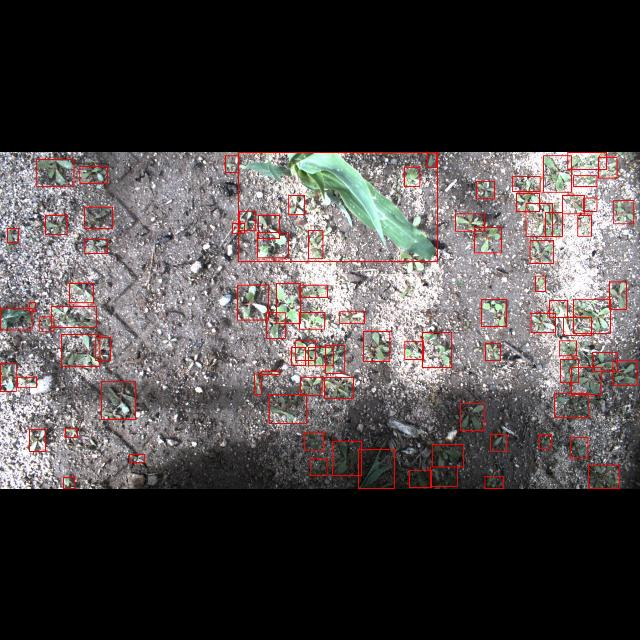crop: (238, 151, 438, 261), (358, 449, 394, 488)
weed: (100, 381, 136, 419), (574, 298, 610, 334), (61, 334, 100, 366), (332, 440, 362, 476), (542, 155, 572, 191), (238, 284, 268, 320), (36, 158, 74, 186), (270, 393, 306, 422), (422, 332, 452, 366), (276, 283, 300, 323), (52, 306, 96, 326), (526, 202, 552, 235), (571, 366, 601, 394), (555, 393, 589, 417), (364, 331, 390, 361), (588, 464, 620, 488), (474, 226, 502, 252), (258, 232, 288, 256), (0, 307, 32, 329), (432, 444, 464, 466), (482, 298, 506, 326), (460, 404, 484, 431), (324, 377, 354, 398), (613, 360, 637, 386), (84, 206, 112, 228), (568, 152, 606, 168), (430, 466, 458, 486), (530, 240, 554, 262), (258, 214, 280, 238), (530, 312, 556, 332), (266, 312, 286, 338), (308, 346, 334, 366), (326, 345, 344, 373), (564, 317, 592, 335), (592, 352, 618, 371), (0, 362, 16, 392), (69, 282, 93, 302), (456, 213, 484, 230), (80, 165, 108, 182), (610, 281, 626, 309), (308, 230, 324, 258), (512, 175, 540, 191), (294, 340, 316, 360), (614, 200, 634, 222), (516, 193, 540, 211), (560, 358, 578, 382), (598, 156, 618, 177), (45, 214, 67, 233), (562, 194, 584, 213), (299, 312, 325, 328), (300, 377, 322, 395), (409, 470, 431, 488), (299, 284, 327, 298), (546, 212, 562, 236), (570, 437, 588, 457), (304, 432, 324, 450), (404, 341, 424, 359), (29, 429, 45, 451), (84, 238, 108, 252), (476, 180, 494, 198), (96, 336, 110, 359), (289, 194, 305, 214), (239, 210, 255, 230), (577, 214, 591, 236), (404, 167, 420, 186), (310, 458, 326, 476), (490, 434, 506, 452), (550, 300, 568, 316), (574, 174, 596, 186), (560, 340, 576, 356), (486, 342, 500, 360), (291, 347, 305, 365), (340, 312, 364, 322), (40, 316, 54, 332), (485, 476, 503, 488), (226, 154, 238, 172), (17, 377, 37, 387), (583, 197, 597, 211), (539, 434, 551, 448), (254, 374, 262, 394), (535, 276, 545, 290), (8, 228, 18, 242), (428, 152, 437, 166), (65, 428, 77, 438), (233, 222, 245, 232), (130, 454, 144, 462), (64, 478, 74, 488), (261, 370, 279, 374), (29, 302, 35, 310)
